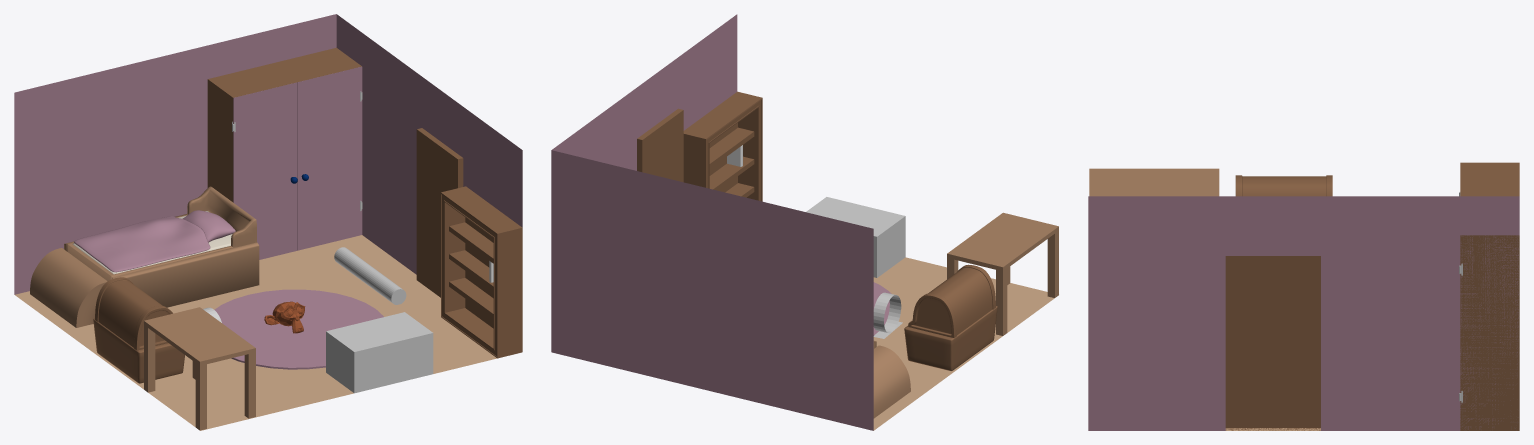
File: sovrum blockout.fbx
3 views of the same model, side by side, from view 1: azimuth 30°, elevation 25°; view 2: azimuth 150°, elevation 25°; view 3: azimuth 270°, elevation 25° (orthographic). The views are drawn at different scales.
Visible parts, largest first — view 1: rum, bokhylla, höger dörr, höger dörr.001, säng, matta, hamsterbur, garderob, skrivbord, täckle, säng slut, kista lock (+5 smaller); view 2: rum, bokhylla, skrivbord, kista lock, hamsterbur, kista, säng slut, loop; view 3: rum, garderob, skrivbord, kista lock.
Part boxes in pixels (box(x1,y1,x2,y2)): rum: box(14, 14, 522, 430); bokhylla: box(441, 186, 522, 358); höger dörr: box(297, 66, 362, 250); höger dörr.001: box(233, 82, 297, 259); säng: box(64, 186, 259, 307); matta: box(214, 289, 383, 369); hamsterbur: box(326, 312, 433, 393); garderob: box(207, 47, 361, 202); skrivbord: box(144, 307, 255, 430); täckle: box(74, 216, 210, 272); säng slut: box(30, 248, 107, 327); kista lock: box(95, 277, 172, 350); rum: box(551, 14, 1054, 430); bokhylla: box(683, 91, 762, 201); skrivbord: box(947, 212, 1058, 335); kista lock: box(908, 264, 995, 337); hamsterbur: box(806, 197, 905, 277); kista: box(904, 306, 997, 370); säng slut: box(873, 345, 910, 418); loop: box(873, 292, 902, 338); rum: box(1088, 196, 1519, 430); garderob: box(1460, 162, 1519, 430); skrivbord: box(1089, 168, 1219, 196); kista lock: box(1235, 175, 1332, 196).
Bounding box in the file's own units: 401 × 240 × 400.
